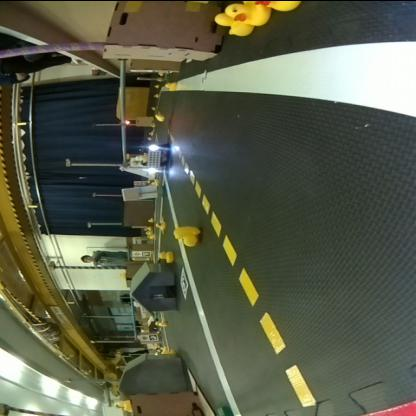Duckie: (227, 0, 267, 24), (217, 13, 253, 34), (174, 225, 200, 245), (253, 1, 297, 9), (160, 249, 172, 261), (165, 82, 175, 88), (140, 151, 146, 161), (157, 221, 165, 228), (154, 114, 162, 119), (158, 320, 166, 324), (151, 178, 158, 182)
Duckiebot: (144, 142, 166, 170)
QR code: (180, 268, 188, 298)
Traffic light: (125, 119, 130, 124)
